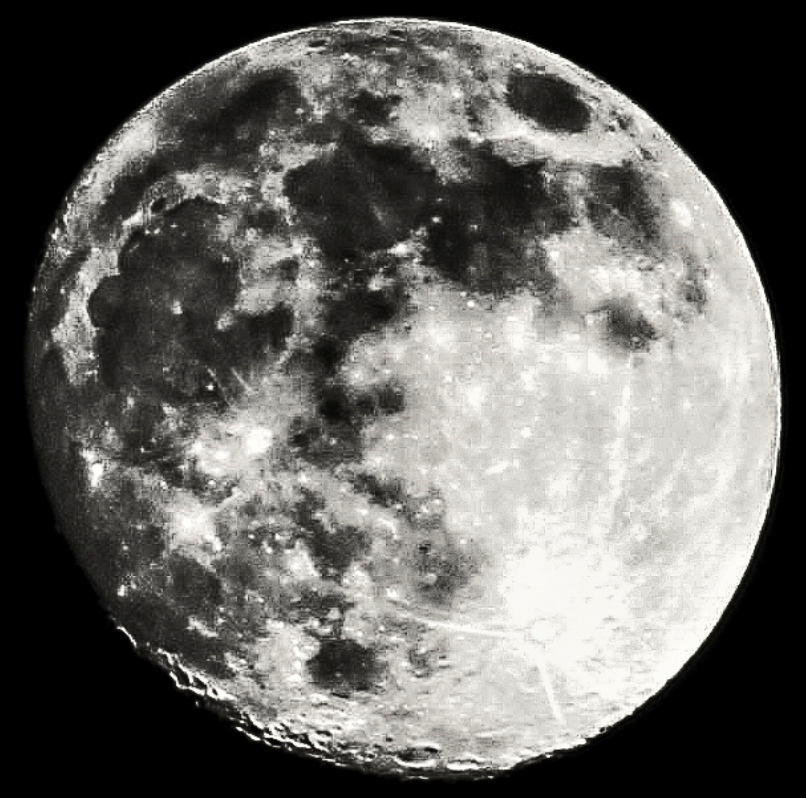crater: (503, 583, 584, 674), (221, 392, 286, 479), (660, 184, 698, 244)
